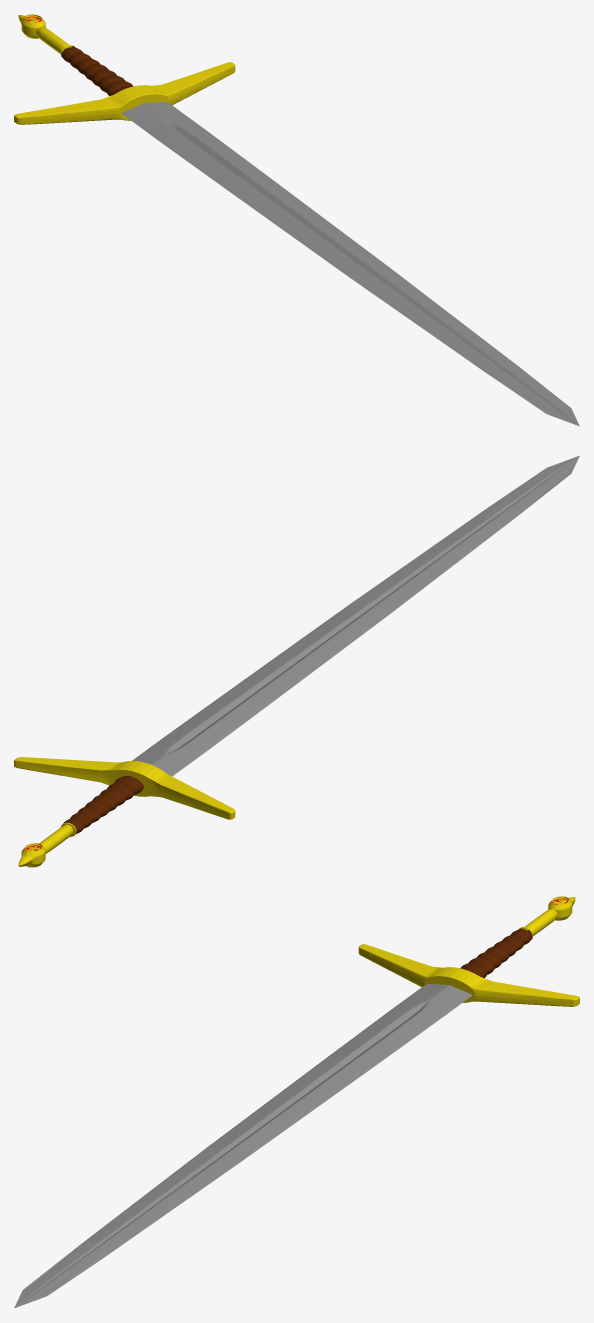
The model's file is CLAYMORE.fbx.
The picture shows the model from 3 angles, top to bottom: view 1: azimuth 30°, elevation 25°; view 2: azimuth 150°, elevation 25°; view 3: azimuth 330°, elevation 25°; orthographic projection.
Parts seen in each view (by area): view 1: blade; view 2: blade; view 3: blade.
Part boxes in pixels (x1=…): blade: x1=14, y1=14, x2=579, y2=426; blade: x1=14, y1=455, x2=579, y2=867; blade: x1=14, y1=896, x2=579, y2=1308.
Bounding box in the file's own units: 3568 × 387 × 15903.
